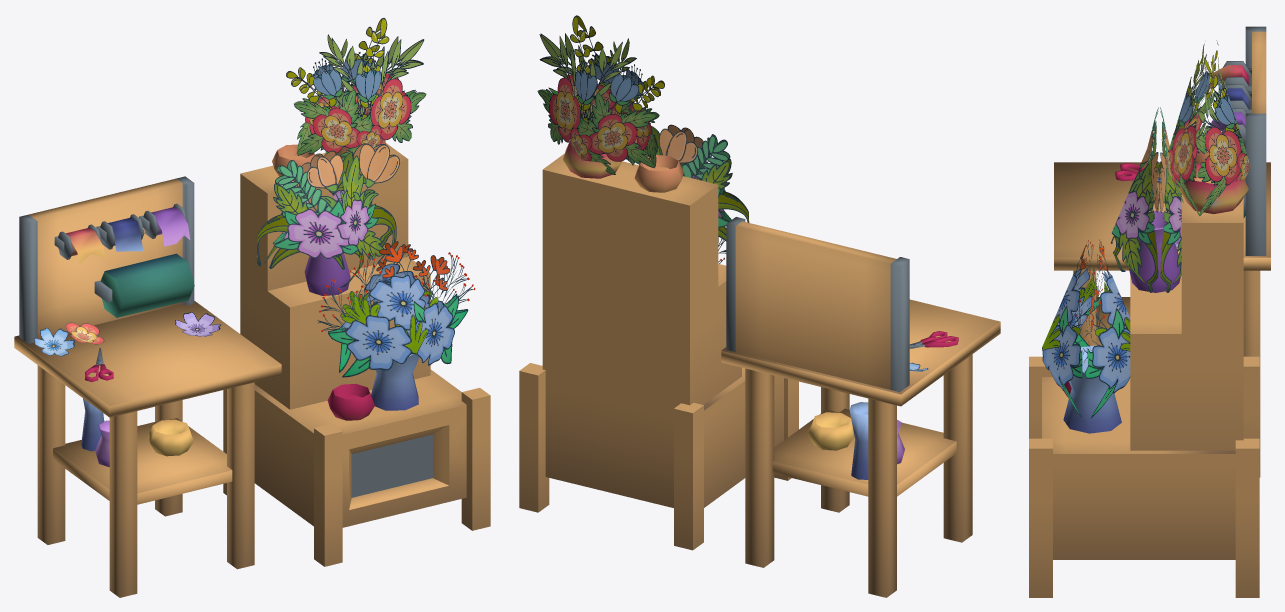
File: FlowerShop.fbx
3 renders of one model, left to right at view 1: azimuth 30°, elevation 25°; view 2: azimuth 150°, elevation 25°; view 3: azimuth 270°, elevation 25°, orthographic. The views are drawn at different scales.
Parts seen in each view (by area): view 1: FlowerShop_Table, FlowerShop_Showcase, FlowerShop_Bouquet_02, FlowerShop_Bouquet_03, FlowerShop_Bouquet_01; view 2: FlowerShop_Showcase, FlowerShop_Table, FlowerShop_Bouquet_01, FlowerShop_Bouquet_03; view 3: FlowerShop_Showcase, FlowerShop_Table, FlowerShop_Bouquet_02, FlowerShop_Bouquet_01, FlowerShop_Bouquet_03.
Boxes of the visible parts, x1,y1,x2,y2 form: FlowerShop_Table: (14, 176, 281, 597); FlowerShop_Showcase: (223, 136, 490, 566); FlowerShop_Bouquet_02: (317, 241, 475, 377); FlowerShop_Bouquet_03: (257, 143, 399, 287); FlowerShop_Bouquet_01: (286, 18, 426, 160); FlowerShop_Showcase: (519, 139, 798, 550); FlowerShop_Table: (721, 217, 1000, 597); FlowerShop_Bouquet_01: (537, 15, 664, 174); FlowerShop_Bouquet_03: (626, 124, 749, 241); FlowerShop_Showcase: (1029, 150, 1259, 597); FlowerShop_Table: (1054, 26, 1270, 477); FlowerShop_Bouquet_02: (1042, 239, 1130, 417); FlowerShop_Bouquet_01: (1165, 40, 1250, 215); FlowerShop_Bouquet_03: (1111, 107, 1181, 292).
Size of the model in its own units: 2.13 by 2.47 by 1.02.
